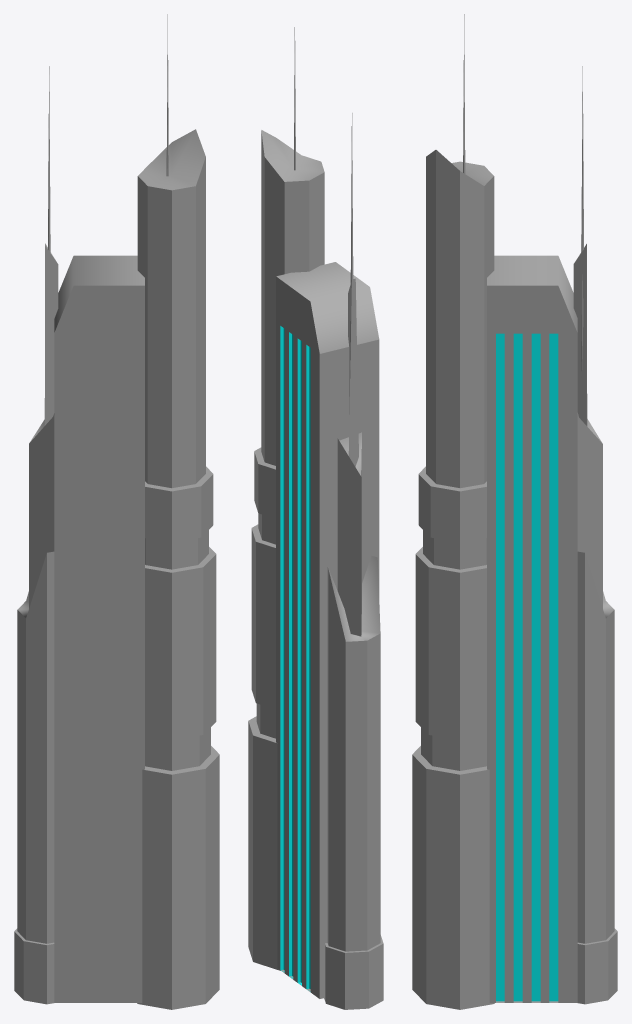
Rendered from Alien Tower.fbx.
The picture shows the model from 3 angles, left to right: view 1: azimuth 90°, elevation 25°; view 2: azimuth 210°, elevation 25°; view 3: azimuth 270°, elevation 25°; orthographic projection. The views are drawn at different scales.
Visible parts, largest first — view 1: pCylinder7; view 2: pCylinder7; view 3: pCylinder7.
Part boxes in pixels (<box>): pCylinder7: <box>14,14,219,1009</box>; pCylinder7: <box>248,27,383,1009</box>; pCylinder7: <box>412,14,617,1009</box>.
Bounding box in the file's own units: 1.34 × 15.09 × 2.88.
